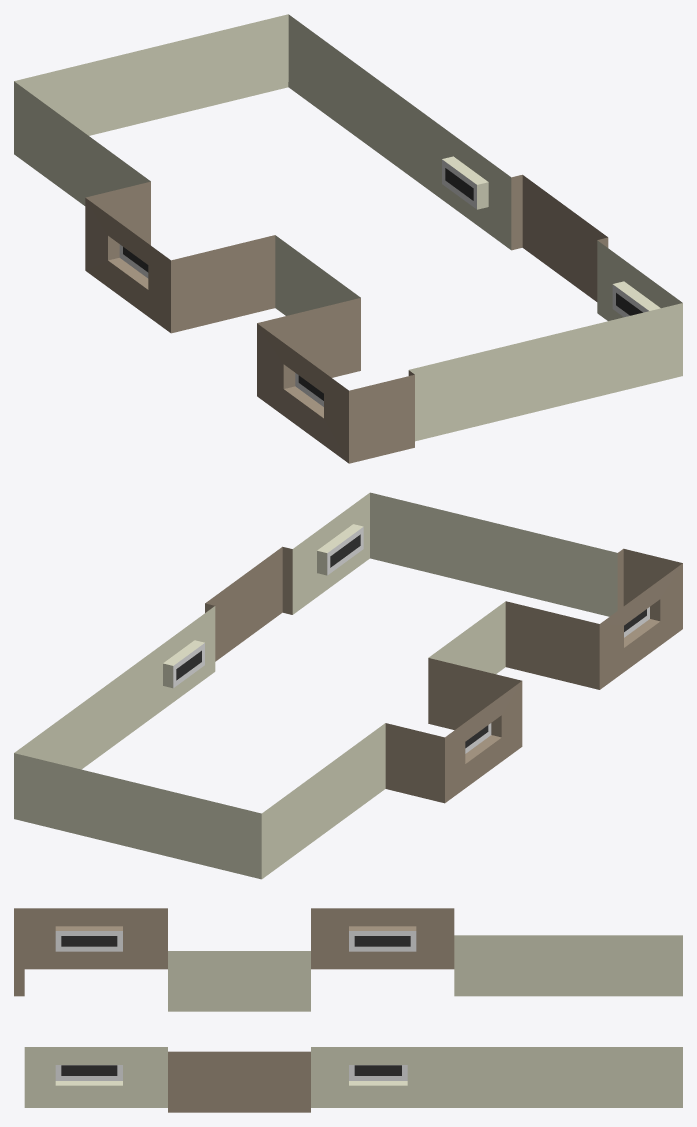
Rendered from building4_middle2.fbx.
3 renders of one model, top to bottom at view 1: azimuth 30°, elevation 25°; view 2: azimuth 150°, elevation 25°; view 3: azimuth 270°, elevation 25°, orthographic. The views are drawn at different scales.
Parts seen in each view (by area): view 1: building4_middle2; view 2: building4_middle2; view 3: building4_middle2.
Part boxes in pixels (box(x1,y1,x2,y2)): building4_middle2: box(14, 14, 682, 463); building4_middle2: box(14, 492, 682, 879); building4_middle2: box(14, 908, 682, 1112).
Bounding box in the file's own units: 755 × 150 × 1492.
